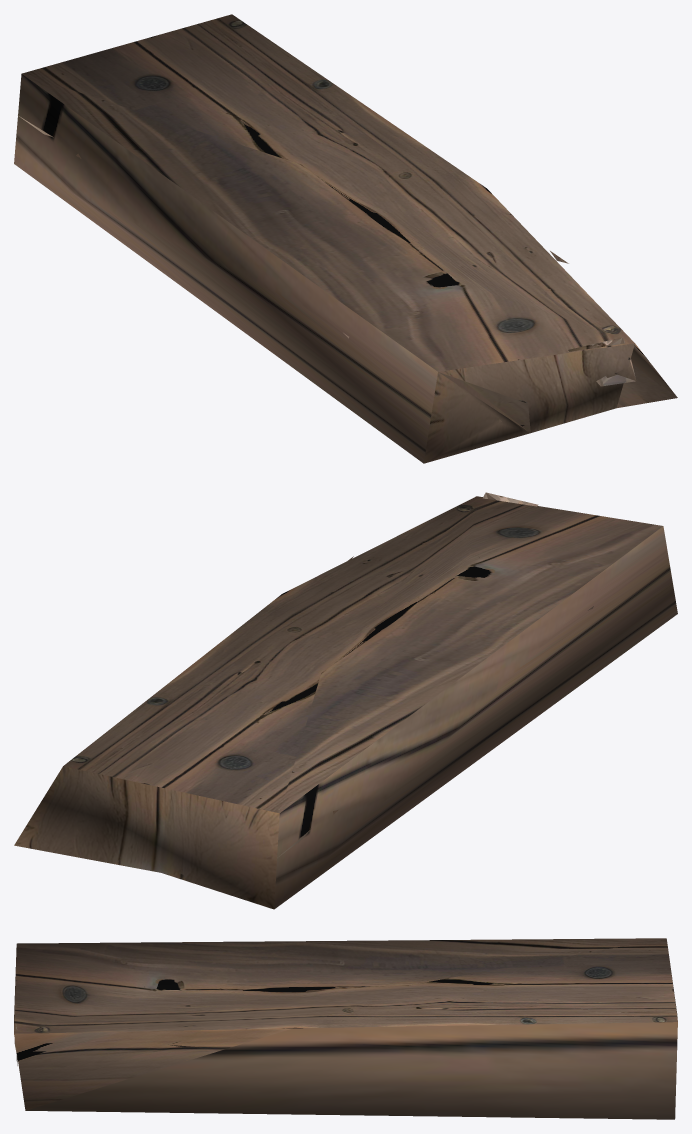
3 views of the same model, one above another, from view 1: azimuth 30°, elevation 25°; view 2: azimuth 150°, elevation 25°; view 3: azimuth 270°, elevation 25° (orthographic). The views are drawn at different scales.
Parts seen in each view (by area): view 1: tripo_node_9f8b8827; view 2: tripo_node_9f8b8827; view 3: tripo_node_9f8b8827.
Part boxes in pixels (<box>): tripo_node_9f8b8827: <box>14,14,677,463</box>; tripo_node_9f8b8827: <box>14,492,677,909</box>; tripo_node_9f8b8827: <box>14,938,677,1119</box>.
Size of the model in its own units: 38.08 by 12.74 by 99.43.
1 material, 1 textured.
